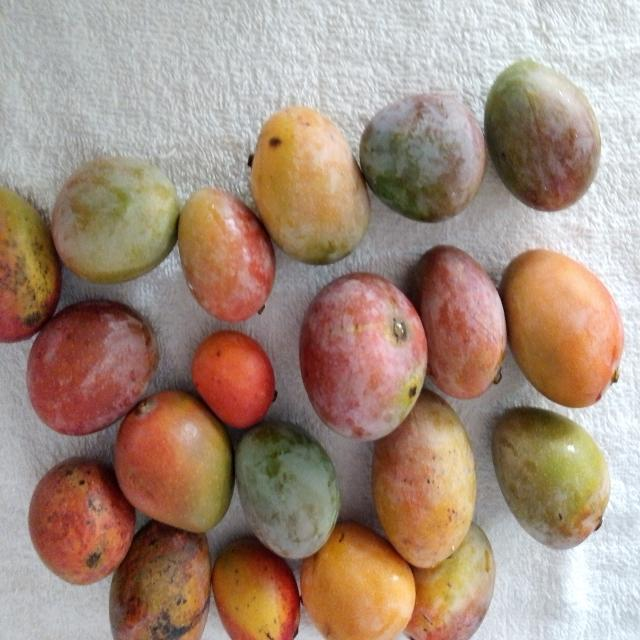mango: (294, 276, 428, 440), (244, 105, 374, 266), (500, 247, 622, 409), (369, 394, 480, 570), (482, 57, 603, 213), (26, 299, 160, 436), (356, 88, 488, 227), (487, 400, 607, 549), (118, 386, 238, 528), (48, 154, 178, 282), (176, 180, 279, 324), (28, 454, 136, 589), (237, 420, 341, 560), (413, 252, 508, 399), (297, 523, 416, 640), (110, 516, 212, 640), (407, 526, 497, 639), (0, 180, 60, 344), (214, 536, 298, 640)
